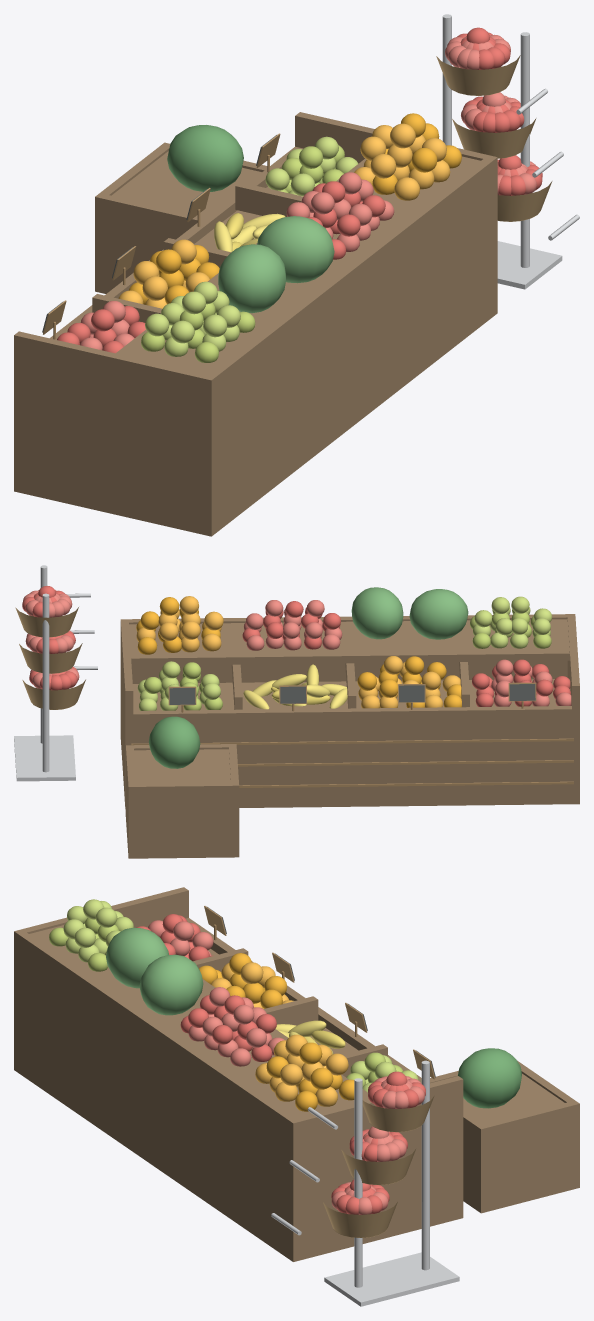
Rendered from fruit_display_rack_brown.glb.
3 renders of one model, top to bottom at view 1: azimuth 30°, elevation 25°; view 2: azimuth 150°, elevation 25°; view 3: azimuth 270°, elevation 25°, orthographic. The views are drawn at different scales.
Visible parts, largest first — view 1: wall_back, Fruit, wall_right, Signs_Baskets, bed_back, wmbin_right, wmbin_bed, wall_left, stand_foot, rim_front, wmbin_front, divider_0 (+2 smaller); view 2: Fruit, wall_front, bed_back, wmbin_front, wall_back, Signs_Baskets, rim_front, wmbin_bed, stand_foot, bed_front, sign (×4), wall_left (+10 smaller); view 3: wall_back, Fruit, wall_left, Signs_Baskets, wmbin_left, bed_back, stand_foot, wmbin_bed, wall_right, wmbin_back, rim_front, wmbin_front (+1 smaller).
Part boxes in pixels (x1,y1,x2,y2): wall_back: (202,155,497,536); Fruit: (57,27,542,362); wall_right: (14,331,216,535); Signs_Baskets: (53,14,579,339); bed_back: (116,156,480,374); wmbin_right: (95,195,204,293); wmbin_bed: (98,151,261,229); wall_left: (295,112,497,316); stand_foot: (497,241,562,289); rim_front: (15,146,303,374); wmbin_front: (95,142,170,293); divider_0: (235,182,302,216); Fruit: (22,586,571,768); wall_front: (125,714,579,808); bed_back: (129,619,569,665); wmbin_front: (128,782,239,858); wall_back: (120,614,575,723); Signs_Baskets: (15,565,523,772); rim_front: (125,706,572,719); wmbin_bed: (133,749,239,795); stand_foot: (14,735,75,781); bed_front: (132,679,570,710); sign (×4): (169,684,535,704); wall_left: (120,619,133,806); wall_back: (14,929,301,1261); Fruit: (49,899,521,1214); wall_left: (288,1076,463,1261); Signs_Baskets: (214,924,434,1287); wmbin_left: (477,1102,579,1212); bed_back: (29,925,368,1117); stand_foot: (324,1252,459,1306); wmbin_bed: (463,1073,579,1139); wall_right: (14,887,188,1072); wmbin_back: (463,1110,488,1213); rim_front: (186,918,462,1112); wmbin_front: (517,1060,579,1189).
Bounding box in the file's own units: 2.86 × 1 × 2.44.
